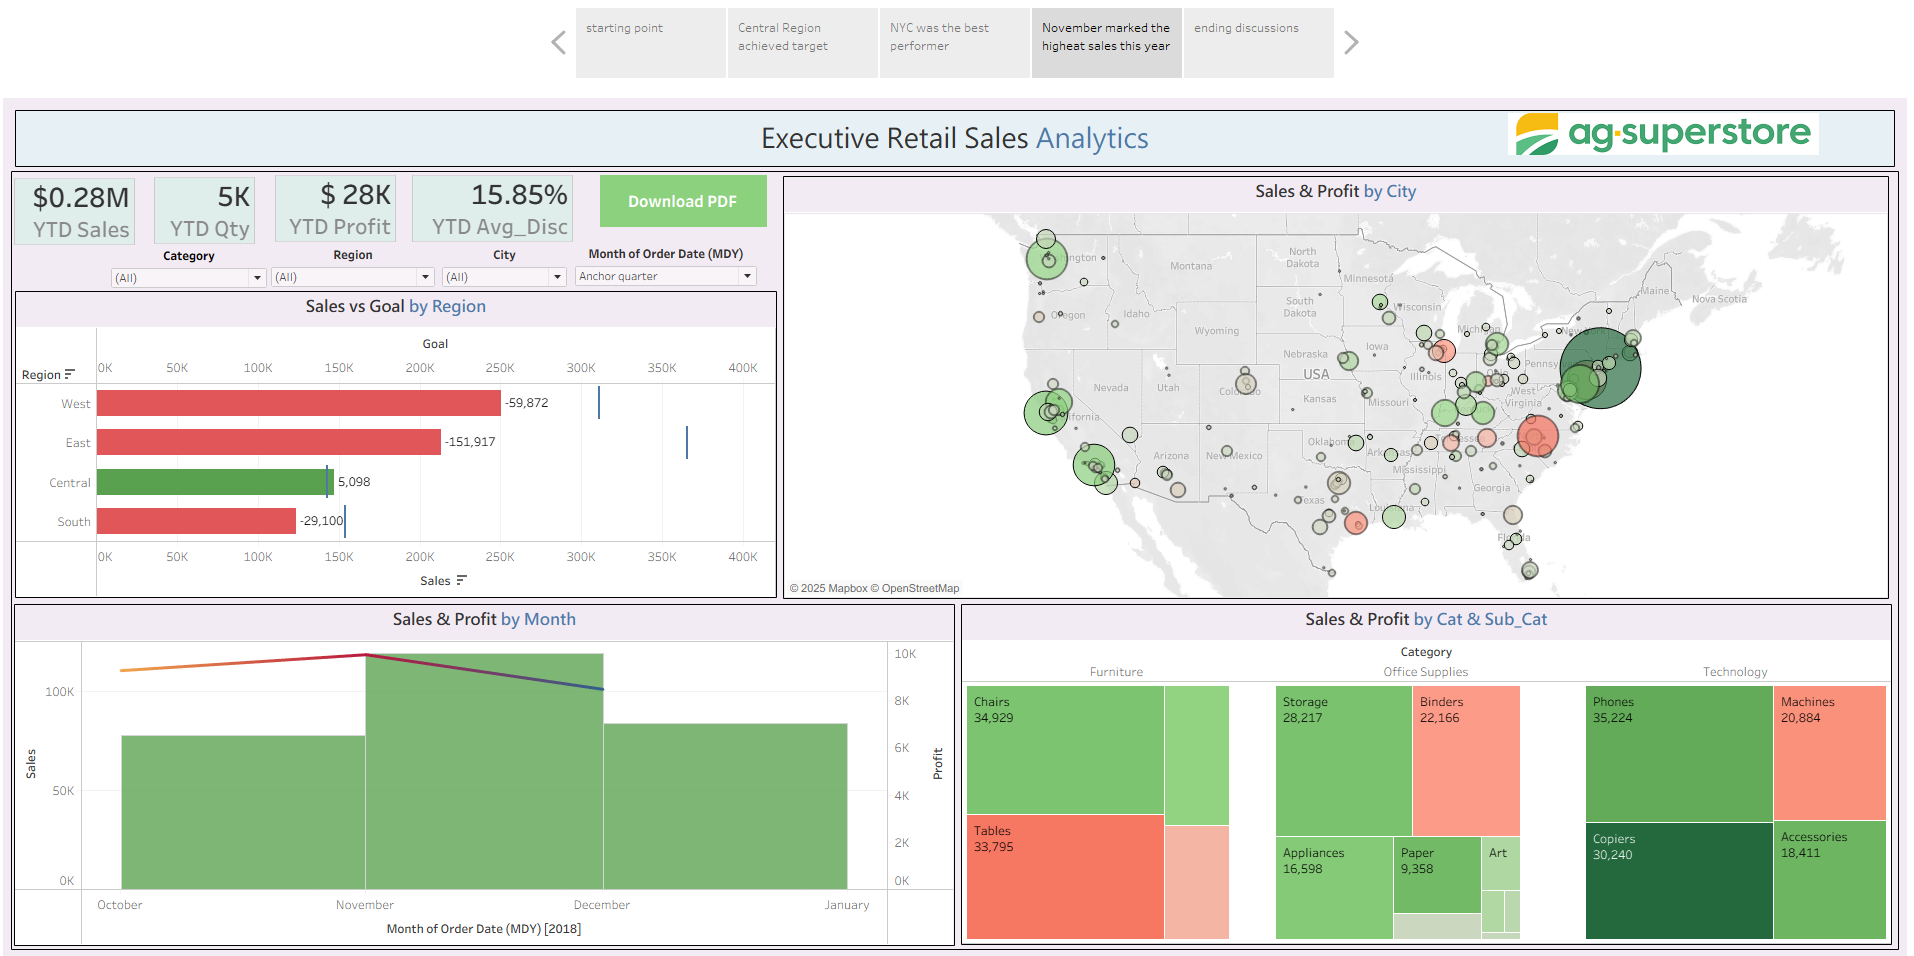

What the dashboard file says about the page in this screenshot:
{"tool":"tableau","page":{"name":"Dashboard 1","canvas":[1000,1000],"units":"permille","ordinal":0},"visuals":[{"type":"title","box":[4.7,9.3,990.6,75.9]},{"type":"image","param":"Image/download.png","box":[780.4,17.5,182.6,49.1]},{"type":"worksheet","title":"profit","mark":"Automatic","box":[141.6,70.1,92.5,112.2]},{"type":"worksheet","title":"disc","mark":"Automatic","box":[213.6,70.1,110.6,120.3]},{"type":"worksheet","title":"qty","mark":"Automatic","box":[78.4,72.4,77.8,118]},{"type":"worksheet","title":"sales","mark":"Automatic","box":[4.7,73.6,88.9,105.1]},{"type":"image","box":[5.3,86.5,989.4,903]},{"type":"dashboard-object","box":[313.6,90,87.5,60.8]},{"type":"worksheet","title":"City_wise","mark":"Automatic","box":[409.9,91.1,580.7,491.8]},{"type":"filter","title":"time_series","param":"[federated.1mje2vl1haba1o11l849009vdhme].[tmn:Order Date (MDY):qk]","box":[299,170.6,98.9,84.1]},{"type":"filter","title":"Target_vs_Achieved","param":"[federated.1mje2vl1haba1o11l849009vdhme].[none:Region:nk]","box":[139.3,171.7,89.5,66.6]},{"type":"filter","title":"City_wise","param":"[federated.1mje2vl1haba1o11l849009vdhme].[none:City:nk]","box":[228.8,171.7,69,79.4]},{"type":"filter","title":"tree_map","param":"[federated.1mje2vl1haba1o11l849009vdhme].[none:Category:nk]","box":[55,172.9,84.8,61.9]},{"type":"worksheet","title":"Target_vs_Achieved","mark":"Automatic","rows":["Region"],"cols":["Sales","Goal"],"box":[6.5,224.3,400.5,357.5]},{"type":"worksheet","title":"time_series","mark":"Automatic","rows":["Sales","Profit"],"cols":["Order Date (MDY)"],"box":[5.9,588.8,494.4,397.2]},{"type":"worksheet","title":"tree_map","mark":"Automatic","cols":["Category"],"box":[503.2,588.8,489.1,396]}]}

Visuals, with their boxes on the dashboard's canvas, which has no fixed pixel size, in thousandths of its width and height (x1, y1, x2, y2). These are canvas units, not pixel positions in the 1914x956 screenshot, which may show the page scaled, cropped or inside an application window:
title: BBox(5, 9, 995, 85)
image: BBox(780, 18, 963, 67)
"profit" worksheet: BBox(142, 70, 234, 182)
"disc" worksheet: BBox(214, 70, 324, 190)
"qty" worksheet: BBox(78, 72, 156, 190)
"sales" worksheet: BBox(5, 74, 94, 179)
image: BBox(5, 86, 995, 990)
dashboard-object: BBox(314, 90, 401, 151)
"City_wise" worksheet: BBox(410, 91, 991, 583)
"time_series" filter: BBox(299, 171, 398, 255)
"Target_vs_Achieved" filter: BBox(139, 172, 229, 238)
"City_wise" filter: BBox(229, 172, 298, 251)
"tree_map" filter: BBox(55, 173, 140, 235)
"Target_vs_Achieved" worksheet: BBox(6, 224, 407, 582)
"time_series" worksheet: BBox(6, 589, 500, 986)
"tree_map" worksheet: BBox(503, 589, 992, 985)
